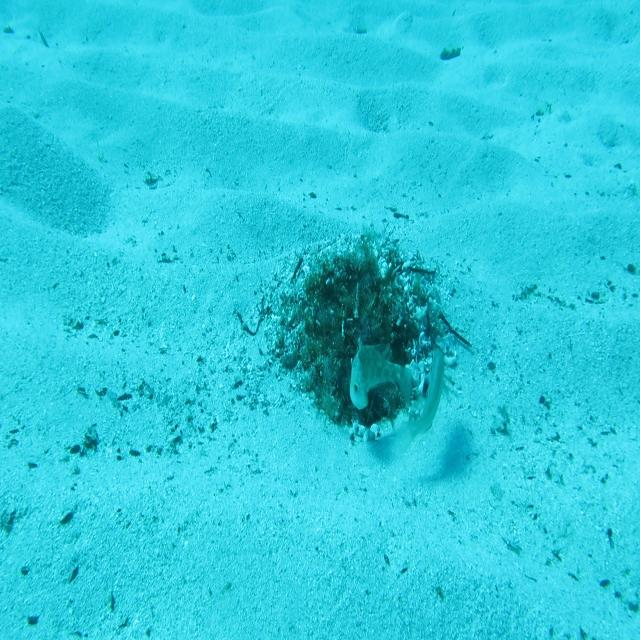DAN_CIRC: (348, 336, 415, 412)
core_nest: (333, 268, 378, 321)
female: (398, 344, 448, 454)
nest: (249, 207, 460, 443)
vegetation: (437, 46, 462, 60)
